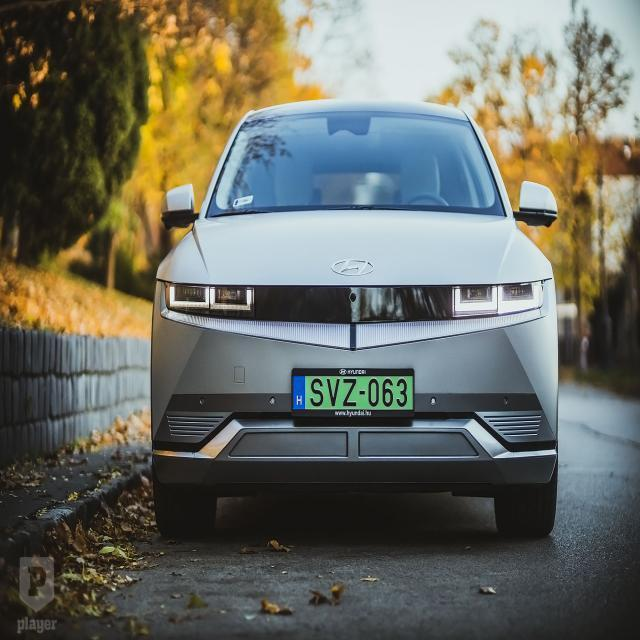licence: (291, 366, 415, 423)
